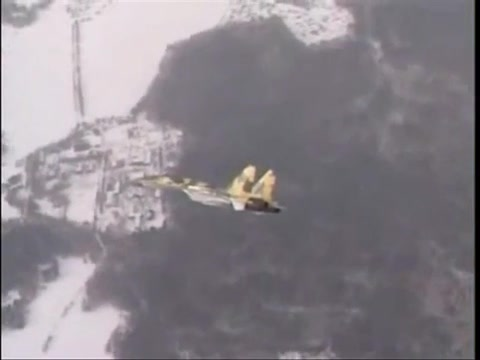aeroplane: (137, 163, 287, 216)
